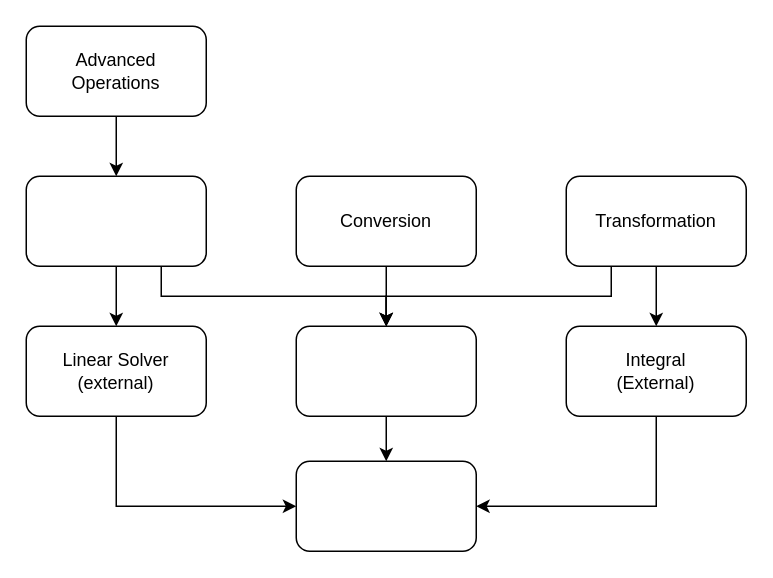
Image size: 773x578. Some labels were removed from this diagram. Each missing label, with the centre of its shape:
"Basic Functions" belongs at point (385, 505).
"Basic Operations" belongs at point (115, 220).
"Data Definitions" belongs at point (385, 370).
